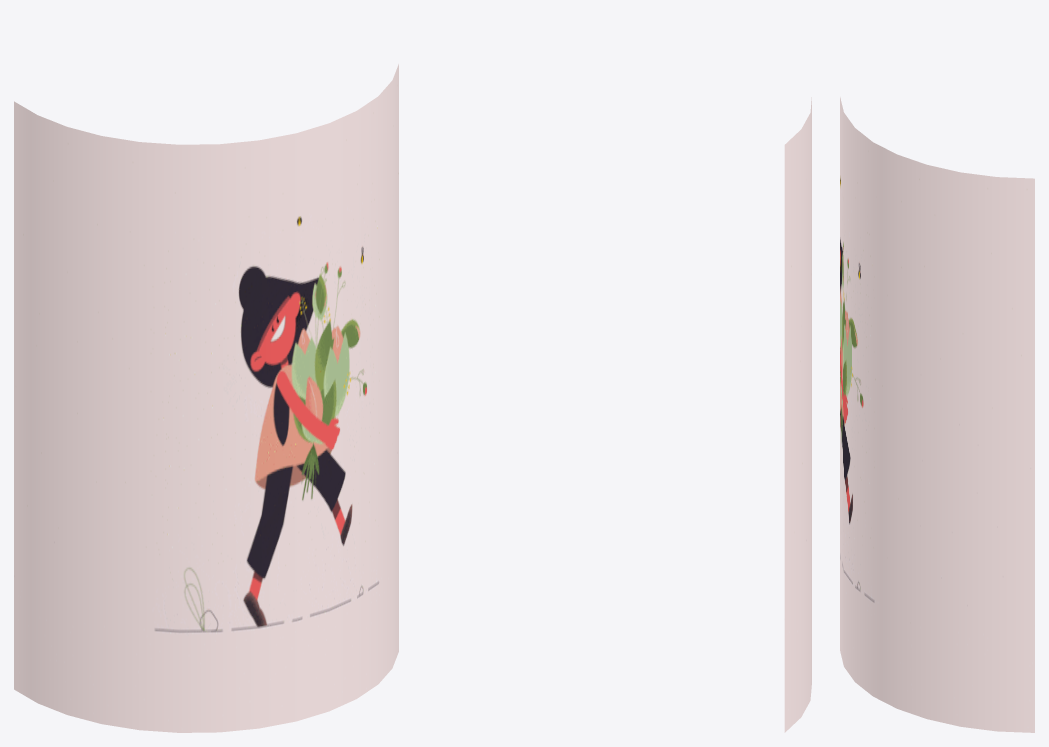
The model's file is model-separate-draco.gltf.
3 renders of one model, left to right at view 1: azimuth 30°, elevation 25°; view 2: azimuth 150°, elevation 25°; view 3: azimuth 270°, elevation 25°, orthographic. The views are drawn at different scales.
Visible parts, largest first — view 1: Cylinder; view 2: Cylinder; view 3: Cylinder.
Part boxes in pixels (x1,y1,x2,y2): Cylinder: (14, 64, 398, 732); Cylinder: (784, 97, 811, 732); Cylinder: (840, 97, 1034, 732).
Bounding box in the file's own units: 8 × 12.57 × 4.
Materials: 1 (1 with a texture image).
